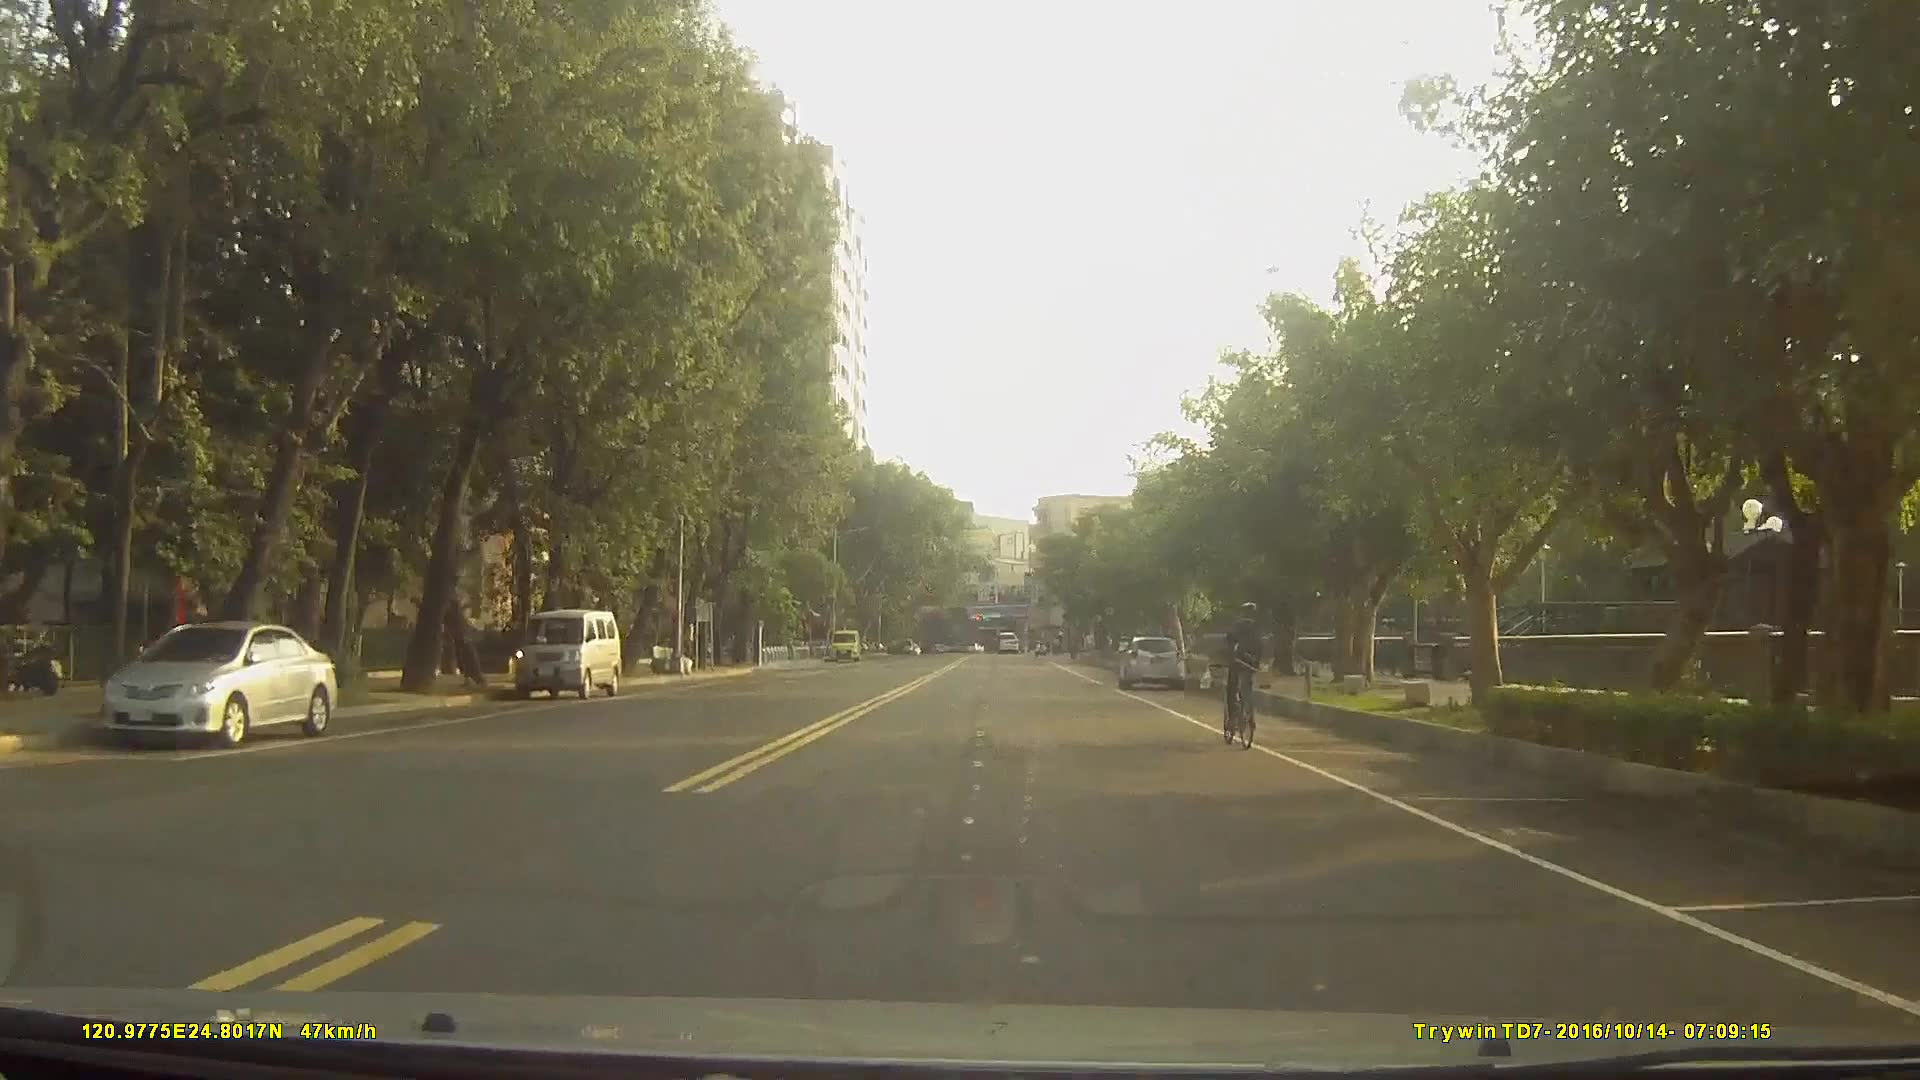rider: (1224, 593, 1267, 740)
vehicle: (96, 617, 340, 744), (513, 606, 621, 699), (1116, 633, 1189, 692), (994, 627, 1019, 652)
